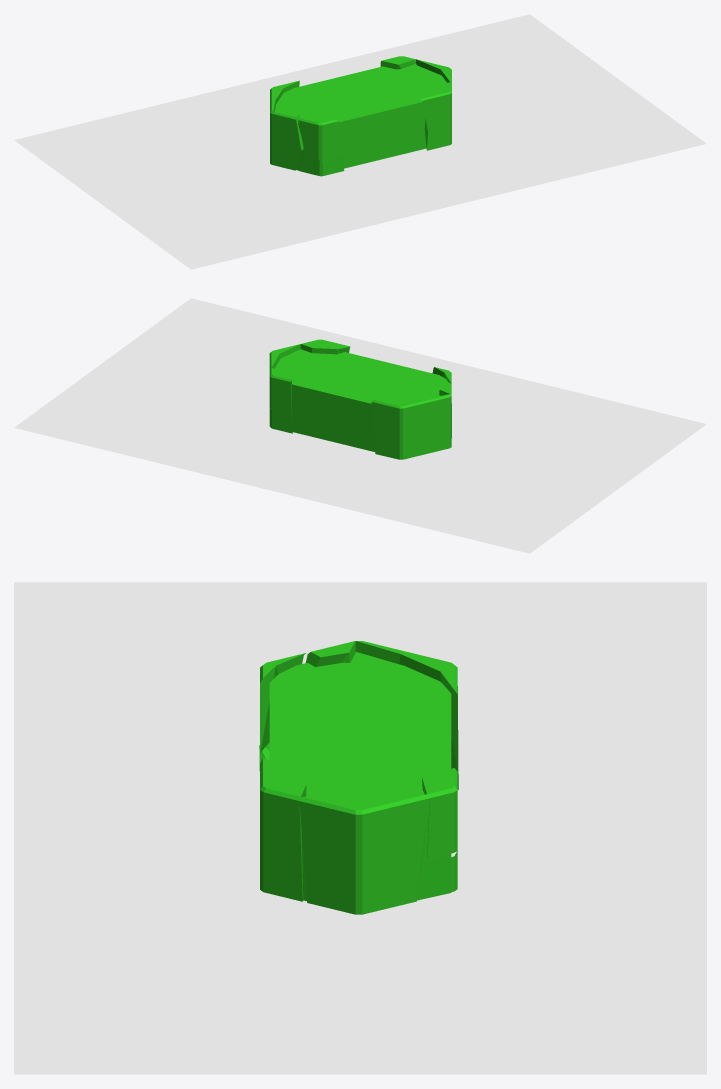
Rendered from MediumObstacle1.fbx.
3 renders of one model, top to bottom at view 1: azimuth 30°, elevation 25°; view 2: azimuth 150°, elevation 25°; view 3: azimuth 270°, elevation 25°, orthographic. The views are drawn at different scales.
Visible parts, largest first — view 1: Shadow, Model, HexGib09, HexGib05, HexGib06, HexGib04, HexGib07; view 2: Shadow, Model, HexGib04, HexGib02, HexGib09; view 3: Shadow, Model, HexGib01, HexGib09, HexGib02, HexGib04, HexGib06, HexGib05.
Boxes of the visible parts, x1=… form: Shadow: x1=14, y1=14, x2=706, y2=269; Model: x1=275, y1=64, x2=446, y2=175; HexGib09: x1=420, y1=82, x2=451, y2=150; HexGib05: x1=271, y1=110, x2=303, y2=170; HexGib06: x1=298, y1=118, x2=344, y2=162; HexGib04: x1=270, y1=80, x2=299, y2=164; HexGib07: x1=299, y1=152, x2=334, y2=176; Shadow: x1=14, y1=298, x2=706, y2=553; Model: x1=269, y1=349, x2=448, y2=459; HexGib04: x1=371, y1=394, x2=451, y2=459; HexGib02: x1=269, y1=368, x2=291, y2=422; HexGib09: x1=300, y1=339, x2=350, y2=354; Shadow: x1=14, y1=582, x2=706, y2=1074; Model: x1=269, y1=652, x2=451, y2=900; HexGib01: x1=299, y1=794, x2=429, y2=914; HexGib09: x1=260, y1=758, x2=306, y2=901; HexGib02: x1=422, y1=768, x2=457, y2=861; HexGib04: x1=355, y1=641, x2=458, y2=789; HexGib06: x1=260, y1=653, x2=305, y2=752; HexGib05: x1=305, y1=641, x2=355, y2=666.
Size of the model in its own units: 3.42 by 0.3461 by 2.03.
